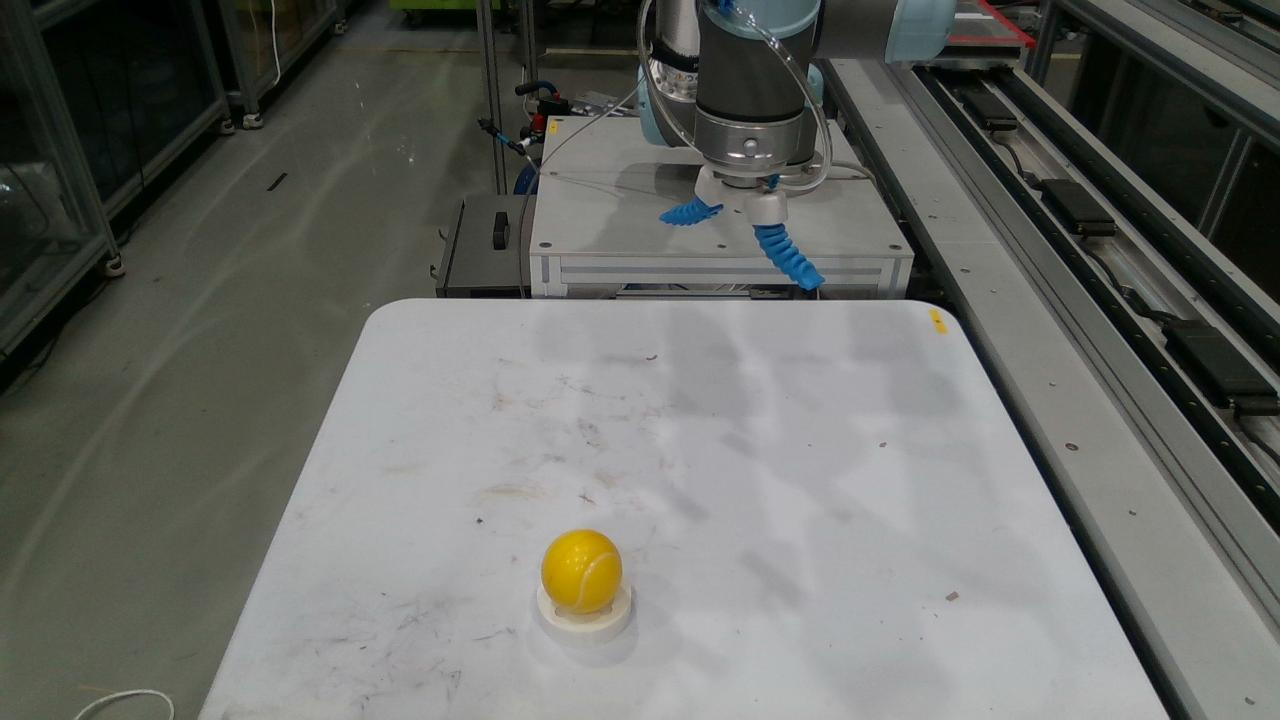UR5: (639, 0, 957, 225)
gripper_left: (659, 197, 724, 226)
gripper_right: (753, 224, 823, 289)
target: (541, 528, 623, 614), (537, 581, 633, 643)
